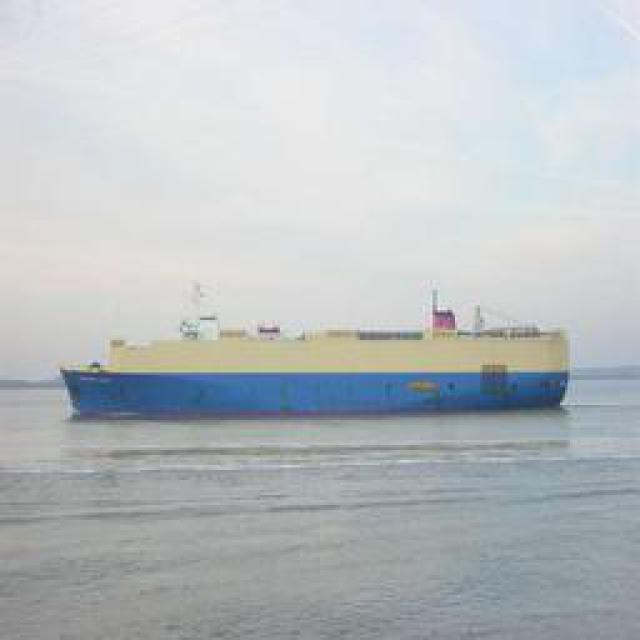Ship: (64, 318, 567, 413)
